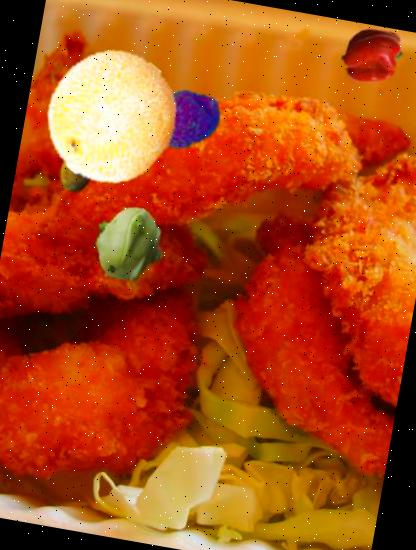Cactus: (42, 124, 117, 199)
Cantaloupe: (34, 40, 188, 194)
Eggplant: (47, 71, 107, 130)
Kohlrabi: (82, 198, 174, 290)
Pepper: (336, 21, 406, 91)
Raspberry: (148, 78, 226, 156)
